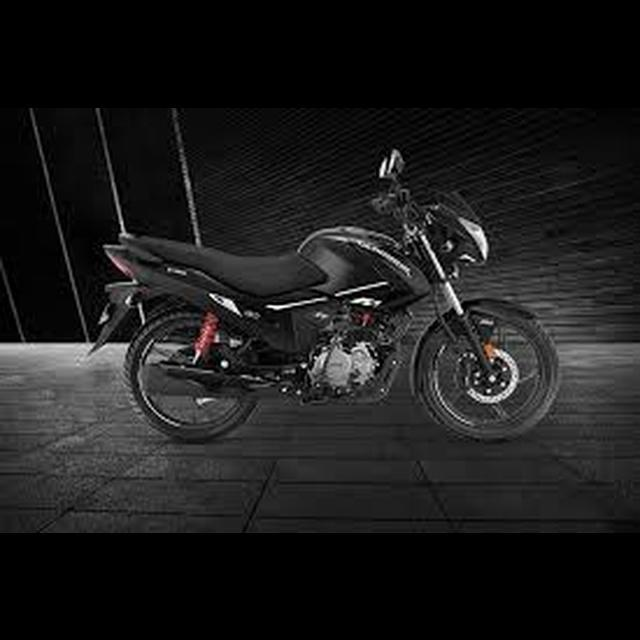motorcycle: (87, 143, 568, 448)
